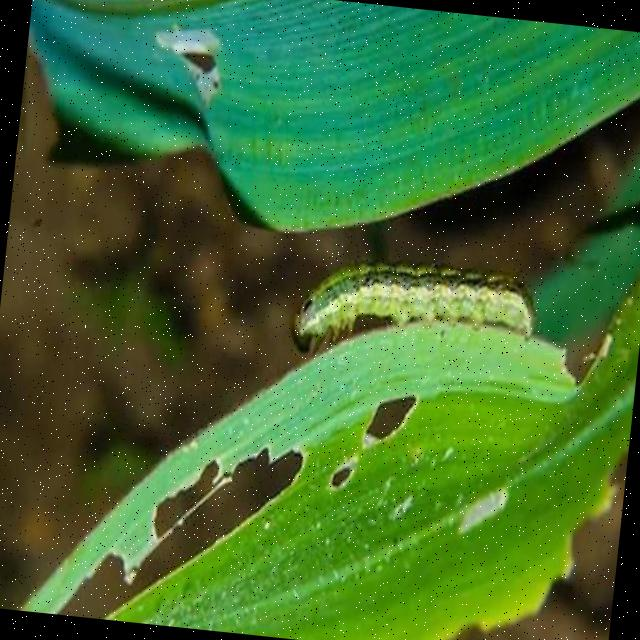worm: (287, 250, 542, 383)
